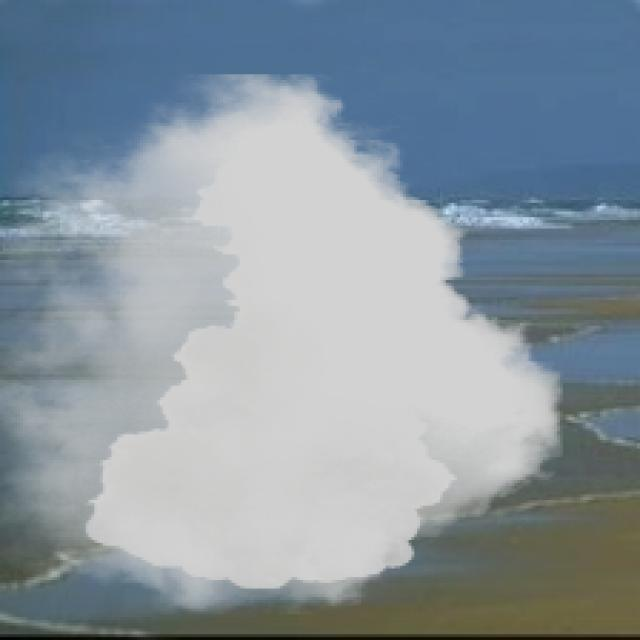Smoke: (0, 75, 563, 614)
